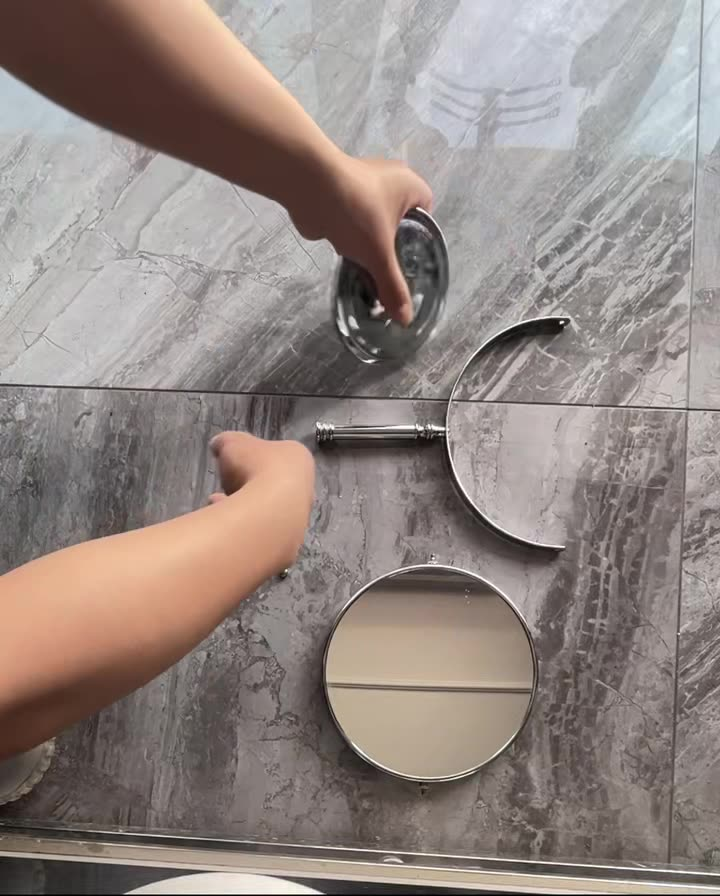base: (327, 196, 449, 365)
frame: (314, 317, 597, 557)
mirror: (316, 560, 542, 792)
screw: (274, 561, 291, 585)
